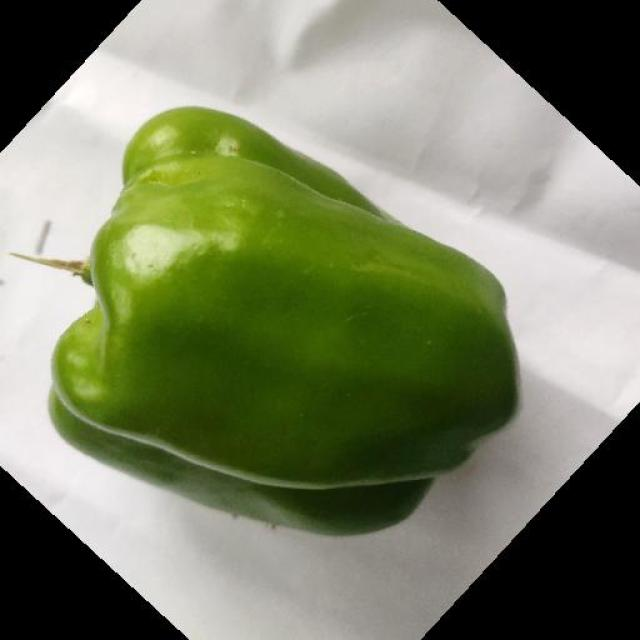Fresh_Capsicum: (80, 176, 502, 519)
